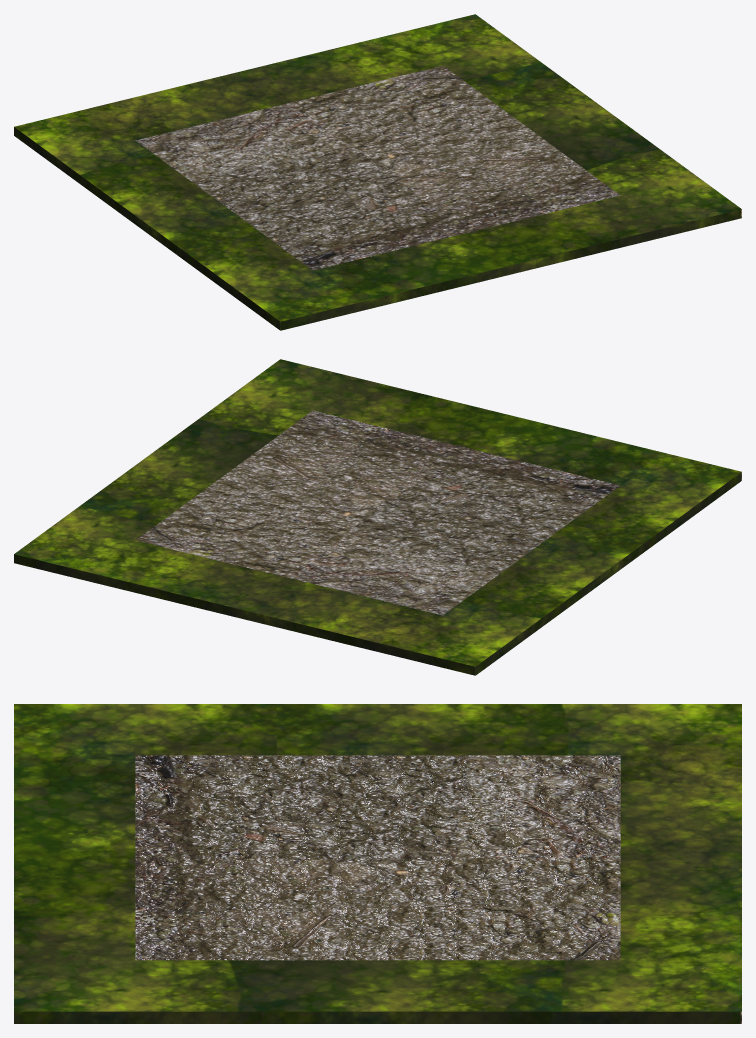
File: Wet_Mud.FBX
3 views of the same model, one above another, from view 1: azimuth 30°, elevation 25°; view 2: azimuth 150°, elevation 25°; view 3: azimuth 270°, elevation 25° (orthographic). The views are drawn at different scales.
Parts seen in each view (by area): view 1: Wet_Mud; view 2: Wet_Mud; view 3: Wet_Mud.
Part boxes in pixels (x1,y1,x2,y2): Wet_Mud: (14, 14, 741, 330); Wet_Mud: (14, 359, 741, 675); Wet_Mud: (14, 704, 741, 1023).
Bounding box in the file's own units: 40 × 0.7435 × 40.
Materials: 1 (1 with a texture image).
